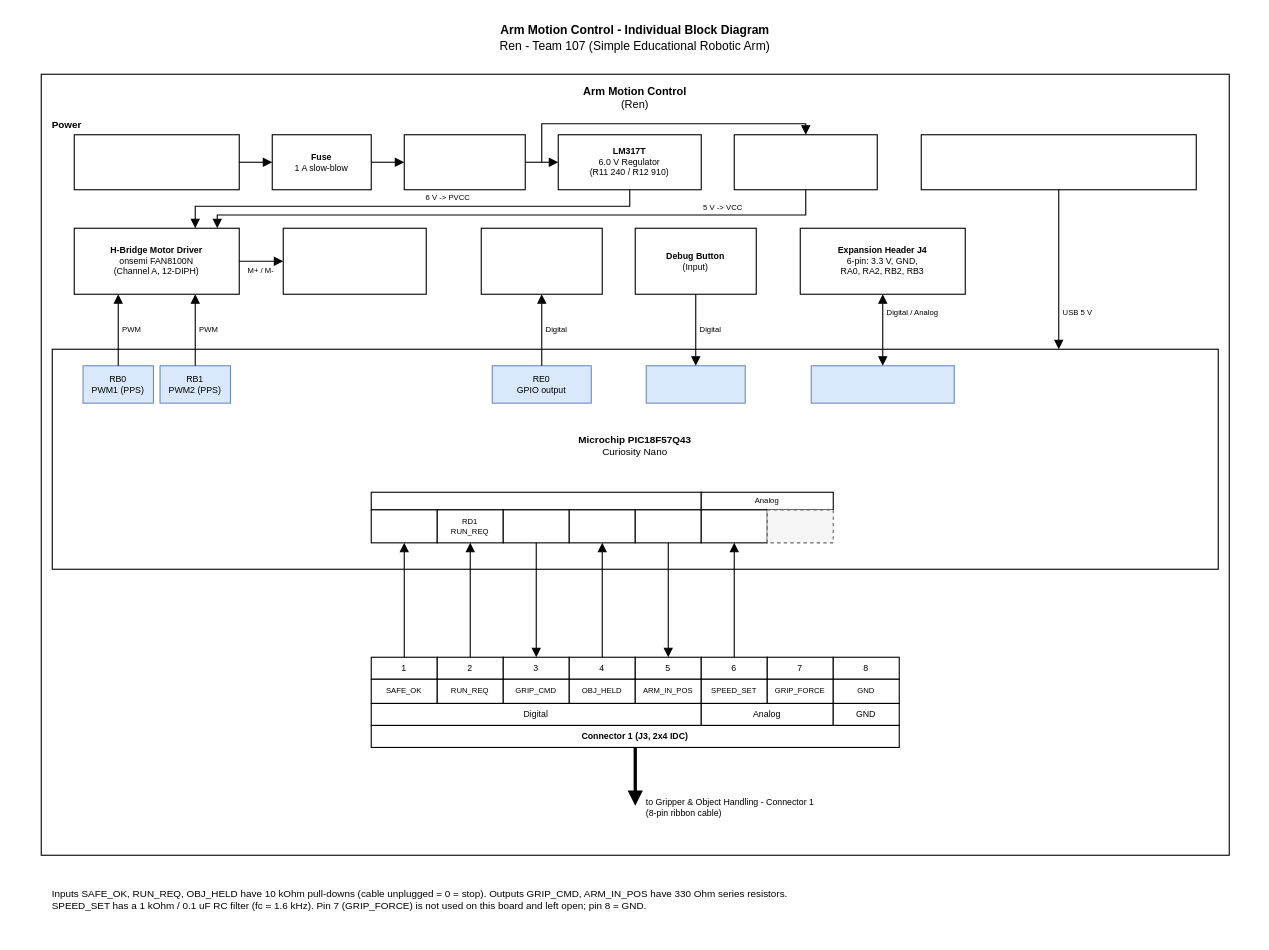
Some shapes in this 1269 by 950 pixel diagram are drawn without their labels. Here are the shapes that lost their labels. From the top down, the centre of each, then its label:
At pixel 156 162: "9 V DC Supply (Barrel Jack) Mean Well GST25A09-P1J".
At pixel 464 162: "Reverse-Polarity Diode (1N5819)".
At pixel 805 162: "L7805 5 V Regulator".
At pixel 1058 162: "USB (PC) powers the Curiosity Nano (3.3 V logic)".
At pixel 354 260: "DC Gear Motor (Actuator) Pololu #2370, 6 V".
At pixel 541 260: "Debug LED (Status)".
At pixel 695 384: "RE1 GPIO input (WPU)".
At pixel 882 384: "RA0, RA2, RB2, RB3 spare GPIO".
At pixel 535 500: "Digital I/O".
At pixel 403 526: "RD0 SAFE_OK".
At pixel 535 526: "RD2 GRIP_CMD".
At pixel 601 526: "RD3 OBJ_HELD".
At pixel 667 526: "RD4 ARM_IN_POS".
At pixel 733 526: "RA1 (ANA1) SPEED_SET".
At pixel 799 526: "Pin 7 not connected".
